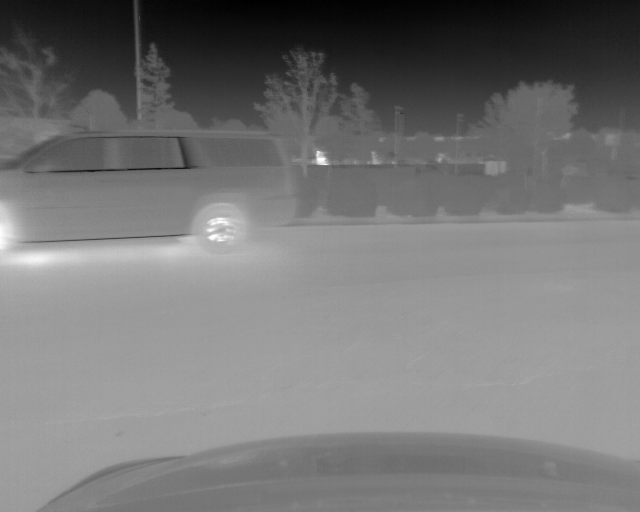car: (1, 127, 299, 254)
